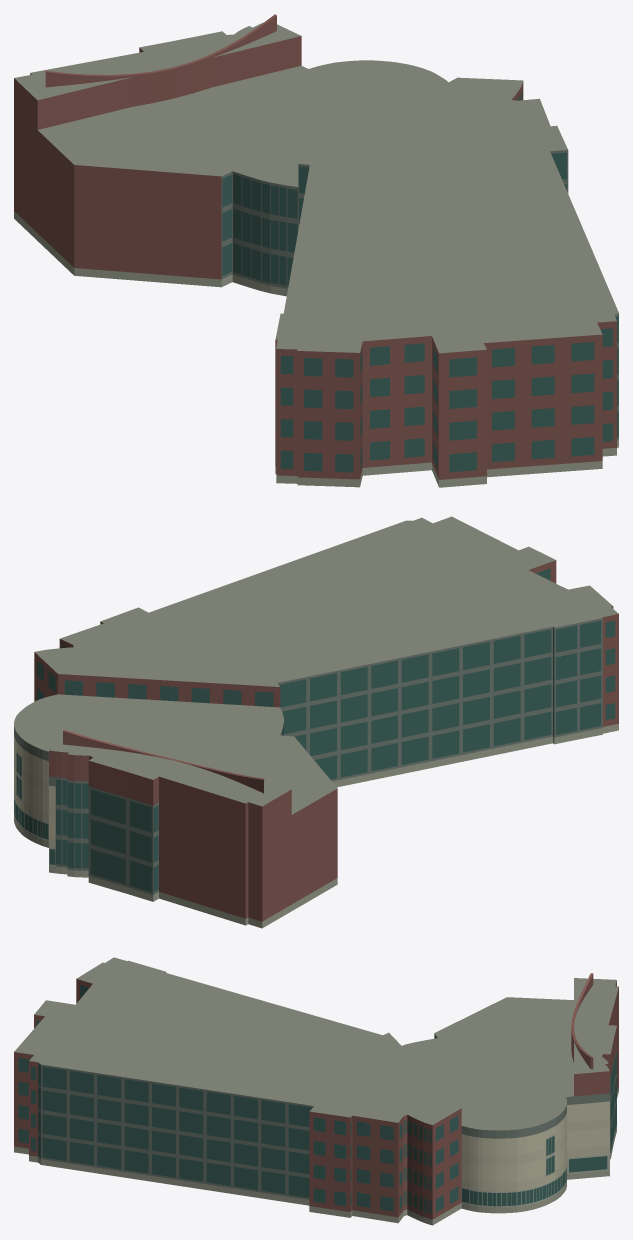
Rendered from coquitlam-city-hall-far.glb.
3 views of the same model, one above another, from view 1: azimuth 30°, elevation 25°; view 2: azimuth 150°, elevation 25°; view 3: azimuth 270°, elevation 25° (orthographic). The views are drawn at different scales.
Visible parts, largest first — view 1: coquitlam-city-hall-0-roof, coquitlam-city-hall-0-brick, coquitlam-city-hall-0-glass, coquitlam-city-hall-0-base, coquitlam-city-hall-0-metal; view 2: coquitlam-city-hall-0-roof, coquitlam-city-hall-0-glass, coquitlam-city-hall-0-brick, coquitlam-city-hall-0-metal, coquitlam-city-hall-0-base, coquitlam-city-hall-0-stone, coquitlam-city-hall-0-stone2, coquitlam-city-hall-0-trim; view 3: coquitlam-city-hall-0-roof, coquitlam-city-hall-0-glass, coquitlam-city-hall-0-brick, coquitlam-city-hall-0-metal, coquitlam-city-hall-0-stone, coquitlam-city-hall-0-base, coquitlam-city-hall-0-stone2, coquitlam-city-hall-0-trim.
Boxes of the visible parts, x1=… form: coquitlam-city-hall-0-roof: x1=14, y1=22, x2=618, y2=353; coquitlam-city-hall-0-brick: x1=14, y1=14, x2=616, y2=479; coquitlam-city-hall-0-glass: x1=222, y1=89, x2=618, y2=472; coquitlam-city-hall-0-base: x1=14, y1=211, x2=618, y2=487; coquitlam-city-hall-0-metal: x1=221, y1=150, x2=618, y2=440; coquitlam-city-hall-0-roof: x1=14, y1=516, x2=618, y2=814; coquitlam-city-hall-0-glass: x1=14, y1=568, x2=615, y2=892; coquitlam-city-hall-0-brick: x1=34, y1=560, x2=618, y2=921; coquitlam-city-hall-0-metal: x1=14, y1=618, x2=602, y2=894; coquitlam-city-hall-0-base: x1=14, y1=723, x2=618, y2=928; coquitlam-city-hall-0-stone: x1=14, y1=735, x2=55, y2=837; coquitlam-city-hall-0-stone2: x1=14, y1=756, x2=55, y2=848; coquitlam-city-hall-0-trim: x1=14, y1=751, x2=55, y2=866; coquitlam-city-hall-0-roof: x1=14, y1=957, x2=618, y2=1130; coquitlam-city-hall-0-glass: x1=18, y1=985, x2=616, y2=1214; coquitlam-city-hall-0-brick: x1=14, y1=973, x2=618, y2=1219; coquitlam-city-hall-0-metal: x1=38, y1=972, x2=616, y2=1199; coquitlam-city-hall-0-stone: x1=461, y1=1101, x2=609, y2=1183; coquitlam-city-hall-0-base: x1=14, y1=1086, x2=618, y2=1225; coquitlam-city-hall-0-stone2: x1=461, y1=1119, x2=609, y2=1191; coquitlam-city-hall-0-trim: x1=461, y1=1134, x2=609, y2=1207.
Bounding box in the file's own units: 61.69 × 20 × 93.96.
